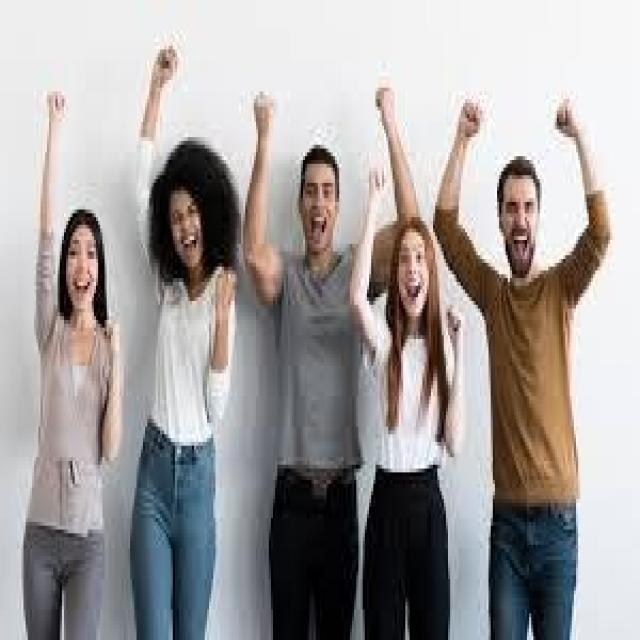person: (439, 54, 616, 636), (113, 34, 241, 636), (226, 69, 354, 636), (4, 149, 130, 636), (344, 156, 469, 636)
